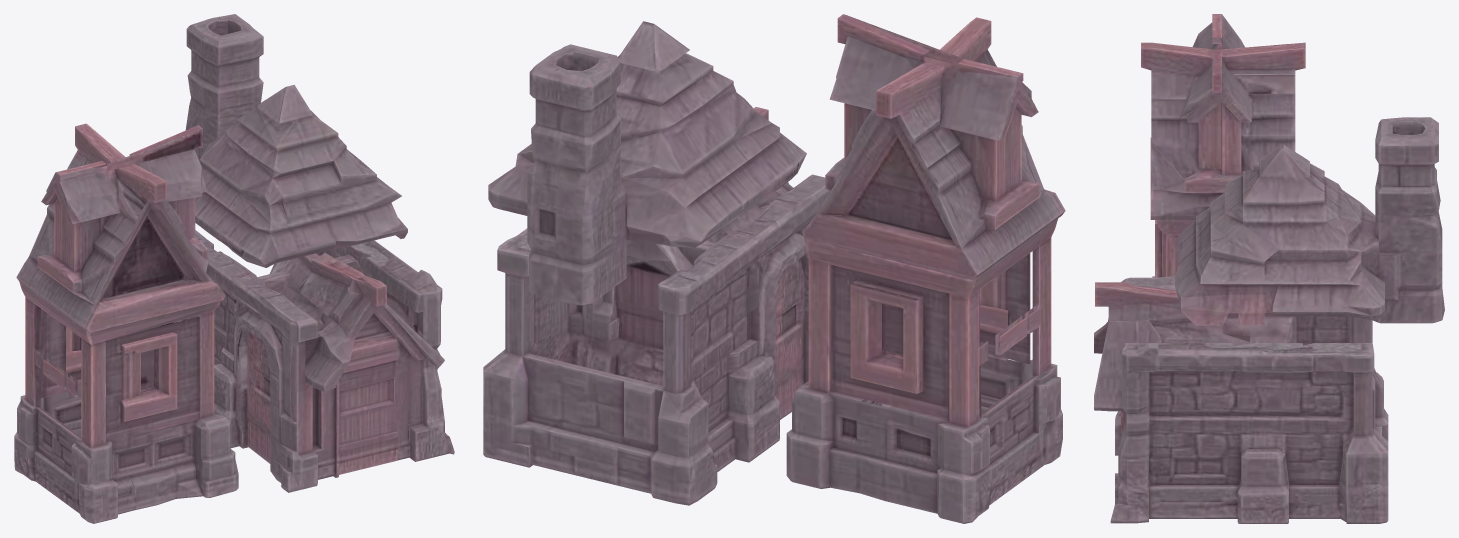
The model's file is cottage_timberstone.glb.
3 renders of one model, left to right at view 1: azimuth 30°, elevation 25°; view 2: azimuth 150°, elevation 25°; view 3: azimuth 270°, elevation 25°, orthographic. The views are drawn at different scales.
Size of the model in its own units: 1.9 by 1.75 by 1.58.
1 material, 1 textured.
